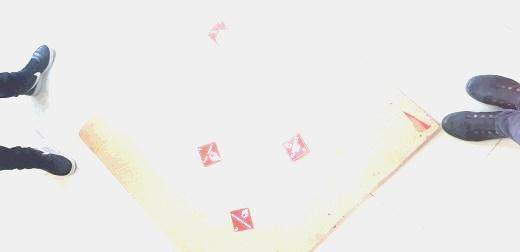flammable: (279, 130, 313, 161), (204, 18, 237, 48), (197, 139, 228, 168), (228, 205, 256, 232)
